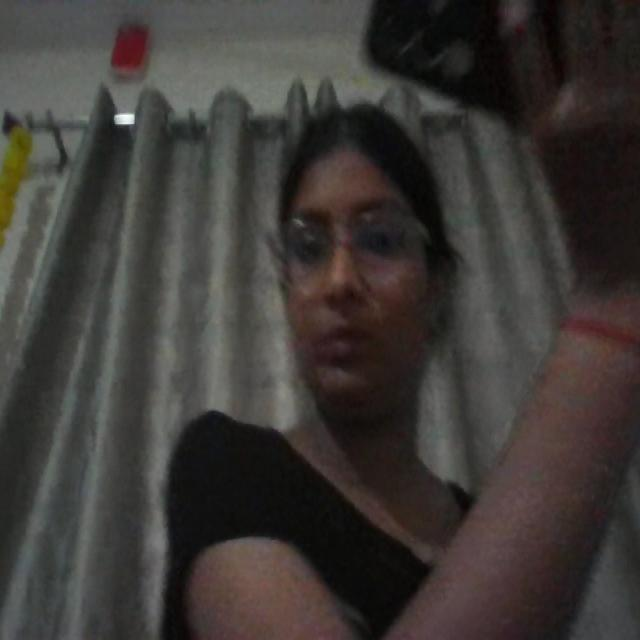phone: (366, 0, 523, 124)
